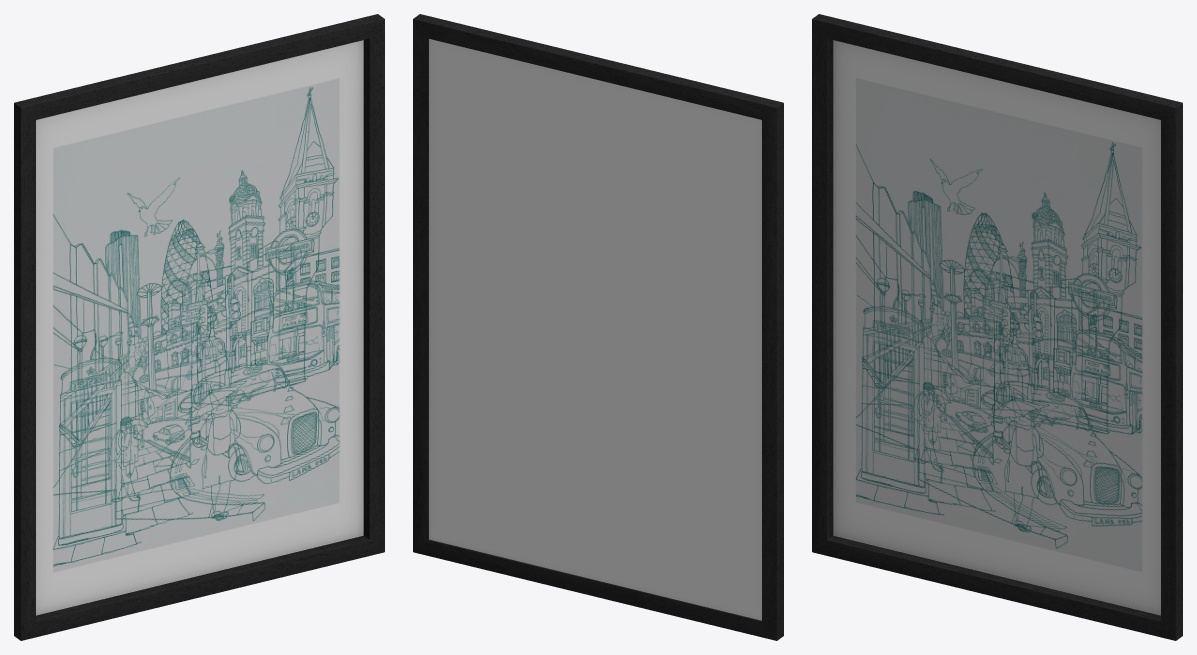
The model's file is london_illustration_teal__grey_30_x_42cm.glb.
The picture shows the model from 3 angles, left to right: view 1: azimuth 30°, elevation 25°; view 2: azimuth 150°, elevation 25°; view 3: azimuth 330°, elevation 25°; orthographic projection.
Parts seen in each view (by area): view 1: PRINT001, FRAME001; view 2: PRINT001, FRAME001; view 3: PRINT001, FRAME001.
Boxes of the visible parts, x1,y1,x2,y2 form: PRINT001: (36,40,363,615); FRAME001: (14,14,384,640); PRINT001: (429,39,761,620); FRAME001: (413,14,783,640); PRINT001: (833,40,1160,615); FRAME001: (812,14,1182,640).
Size of the model in its own units: 30 by 42 by 0.9996.
2 materials, 2 textured.
